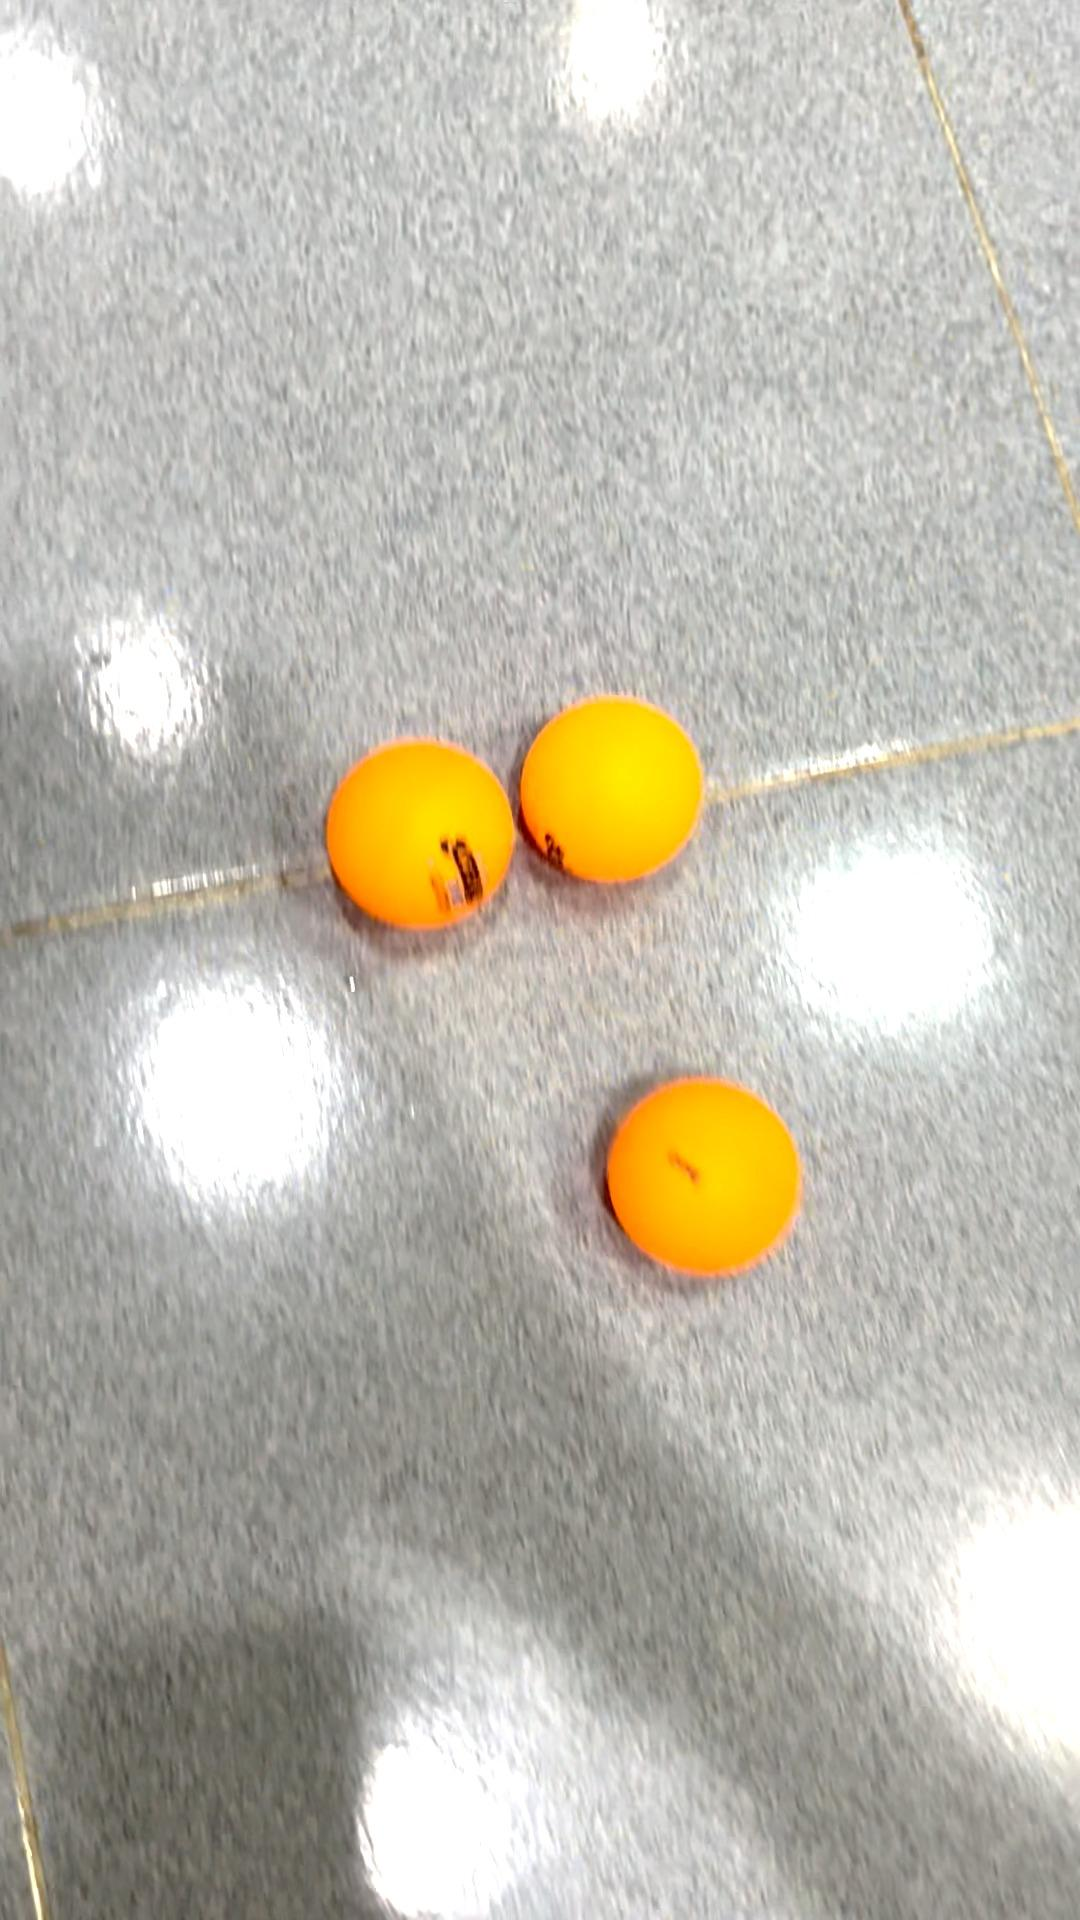oball: (593, 1064, 799, 1288), (518, 691, 713, 902), (326, 740, 513, 935)
